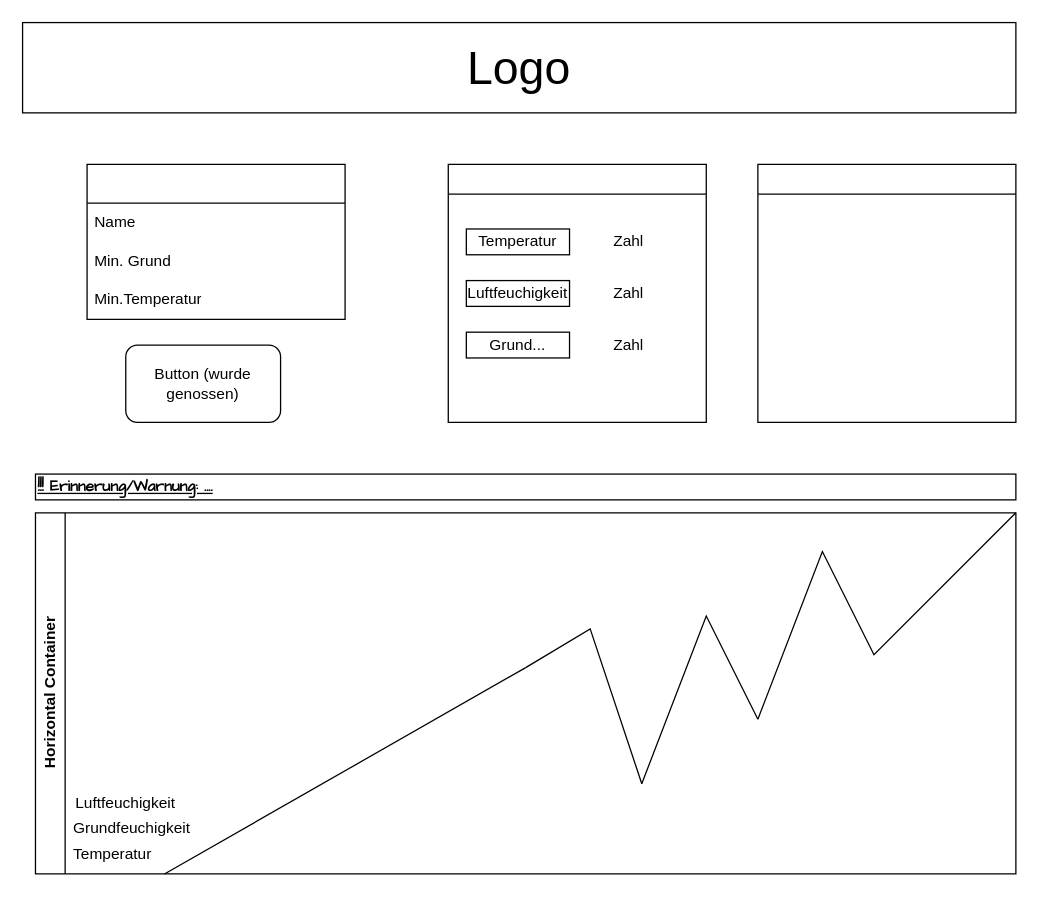
Some shapes in this 1040 by 898 pixel diagram are drawn without their labels. Here are the shapes that lost their labels. From the top down, the box of each, then its label:
(86, 163, 345, 319): Info
(447, 163, 706, 422): Update
(757, 163, 1016, 422): Kalender
